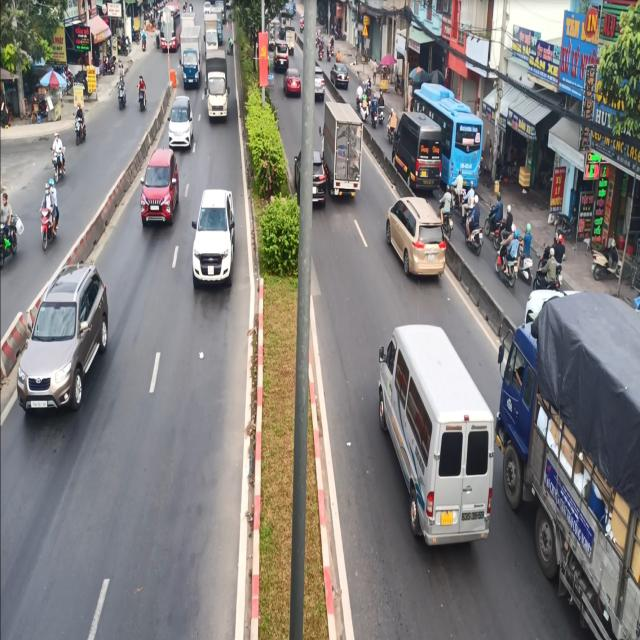car: (368, 316, 489, 559), (16, 255, 111, 436), (387, 190, 445, 294), (191, 181, 236, 301), (140, 140, 177, 231)
motor: (34, 179, 60, 258), (53, 132, 70, 186)
truck: (322, 108, 367, 202)
